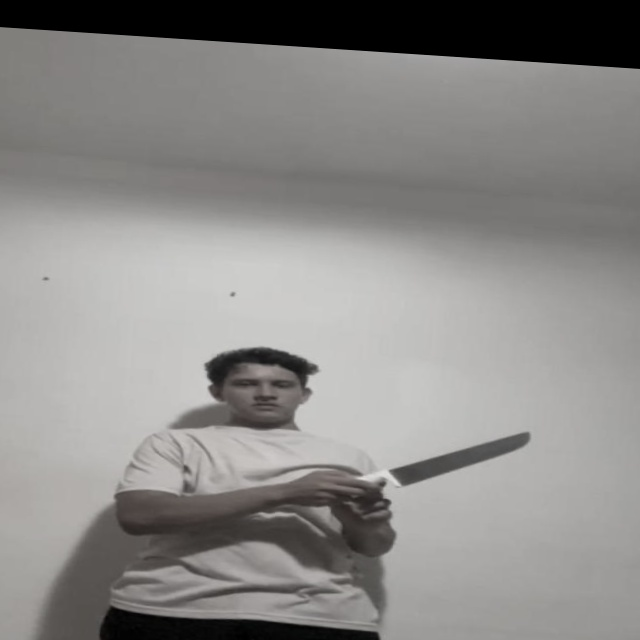Sharp-Object: (400, 422, 534, 487)
